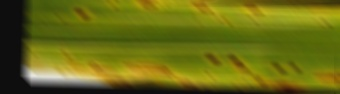Bacterial_Leaf_Blight: (69, 59, 123, 75), (123, 59, 176, 73), (314, 71, 340, 89), (187, 0, 214, 12), (270, 81, 306, 89), (244, 3, 265, 16), (72, 6, 93, 18), (287, 59, 303, 74), (271, 60, 286, 73), (312, 19, 335, 27), (228, 53, 242, 66), (137, 0, 156, 9), (231, 63, 250, 72), (204, 55, 221, 64), (254, 75, 270, 83), (104, 0, 119, 8), (204, 72, 216, 80)
